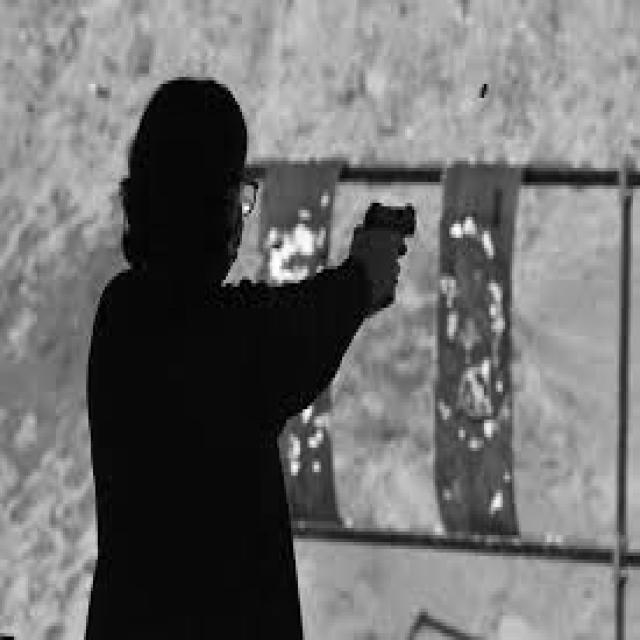handgun: (368, 193, 414, 250)
